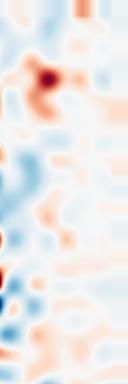filament: (26, 54, 71, 125)
